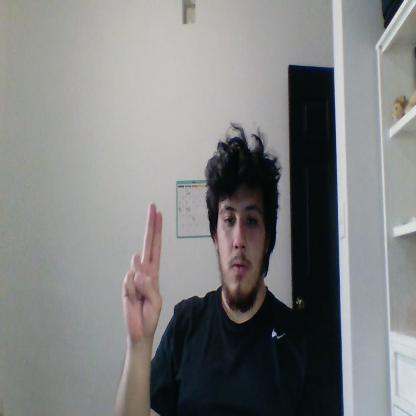U: (124, 202, 163, 340)
